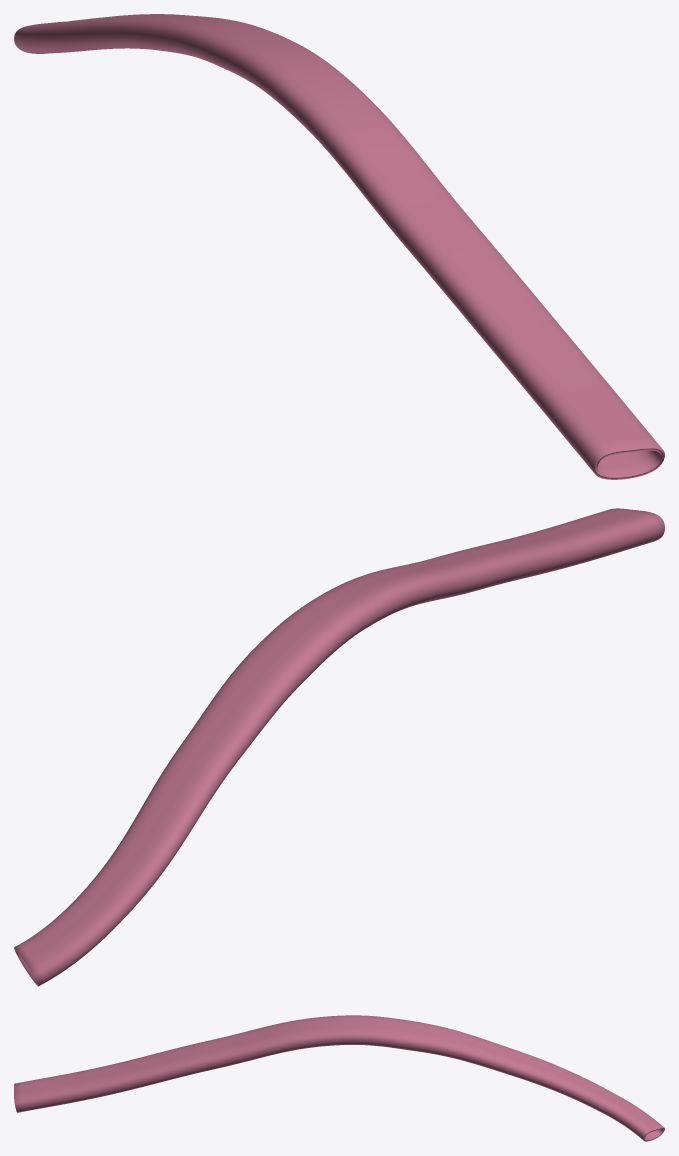
3 renders of one model, top to bottom at view 1: azimuth 30°, elevation 25°; view 2: azimuth 150°, elevation 25°; view 3: azimuth 270°, elevation 25°, orthographic. The views are drawn at different scales.
Parts seen in each view (by area): view 1: 食管; view 2: 食管; view 3: 食管.
Boxes of the visible parts, x1=… form: 食管: x1=14, y1=14, x2=664, y2=479; 食管: x1=14, y1=508, x2=664, y2=986; 食管: x1=14, y1=1015, x2=664, y2=1141.
Bounding box in the file's own units: 0.0403 × 0.0767 × 0.4147.
